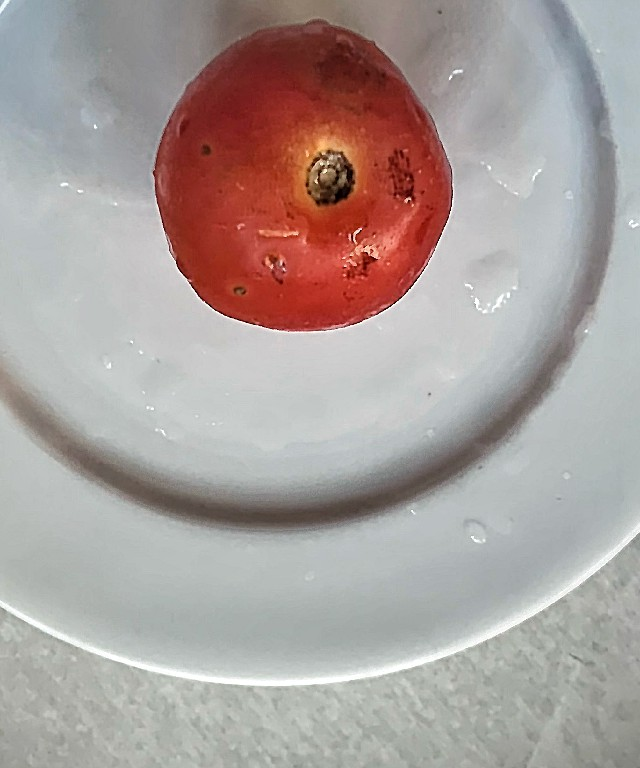NG: (152, 17, 433, 344)
